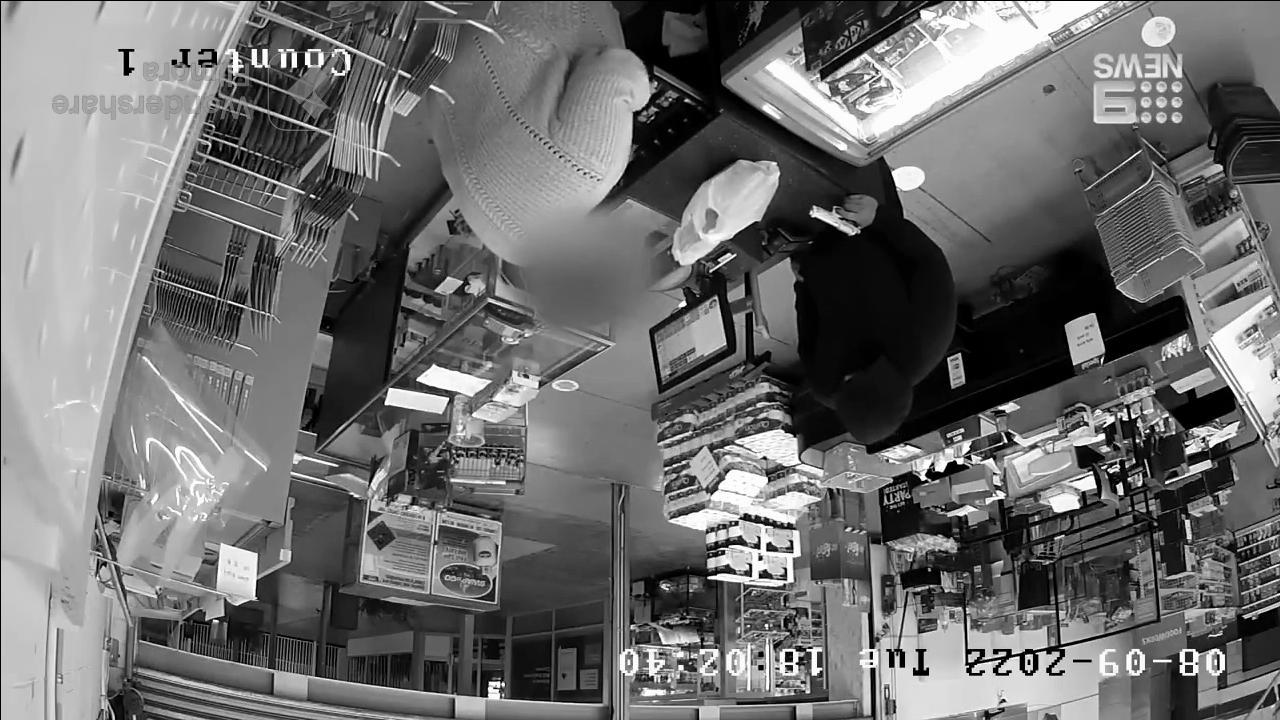gun: (804, 192, 869, 244)
